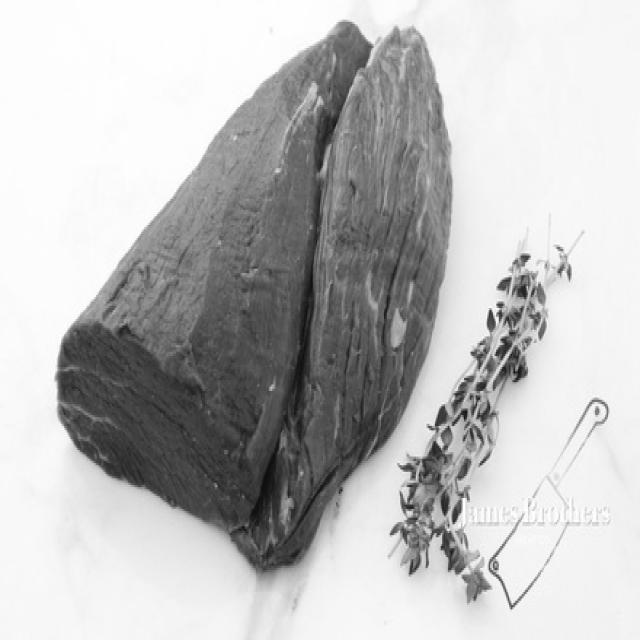thit than: (60, 4, 420, 574)
